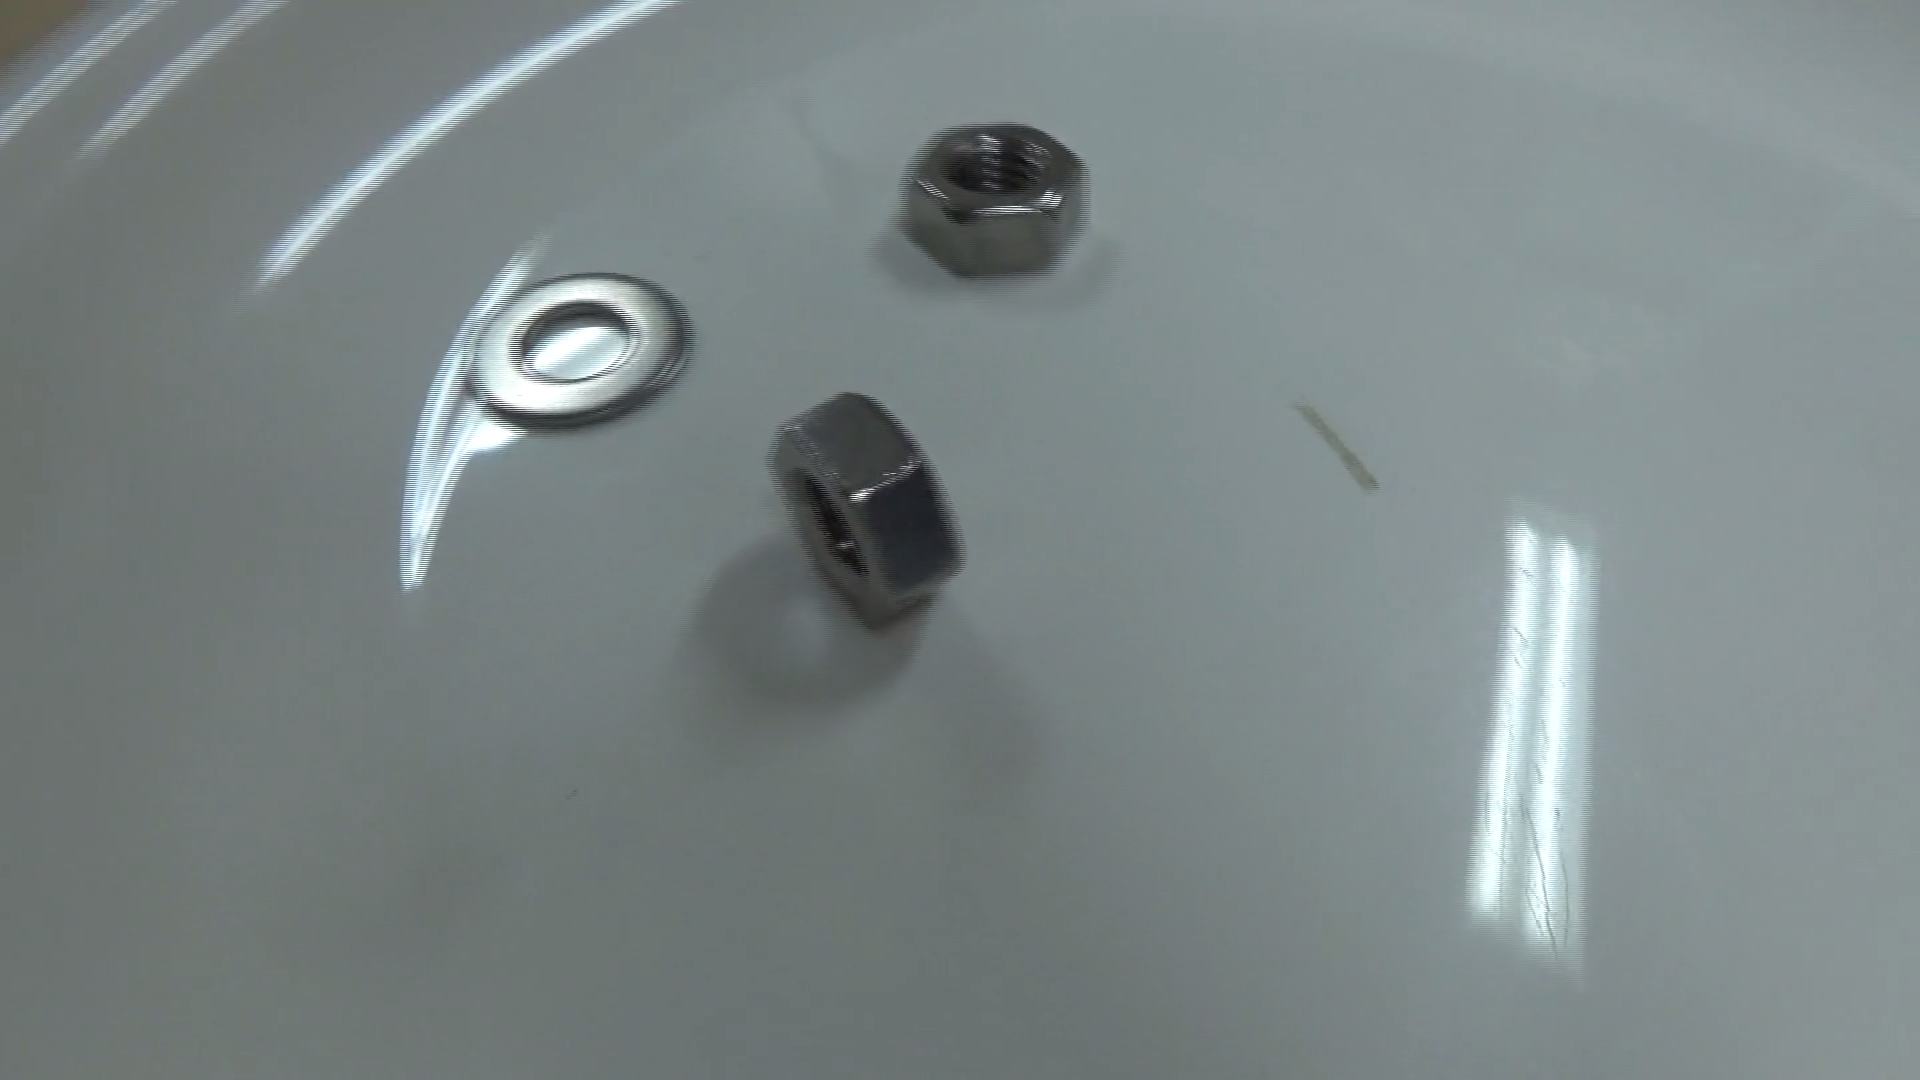nut: (766, 386, 968, 632), (894, 123, 1089, 286)
washer: (460, 266, 690, 433)
